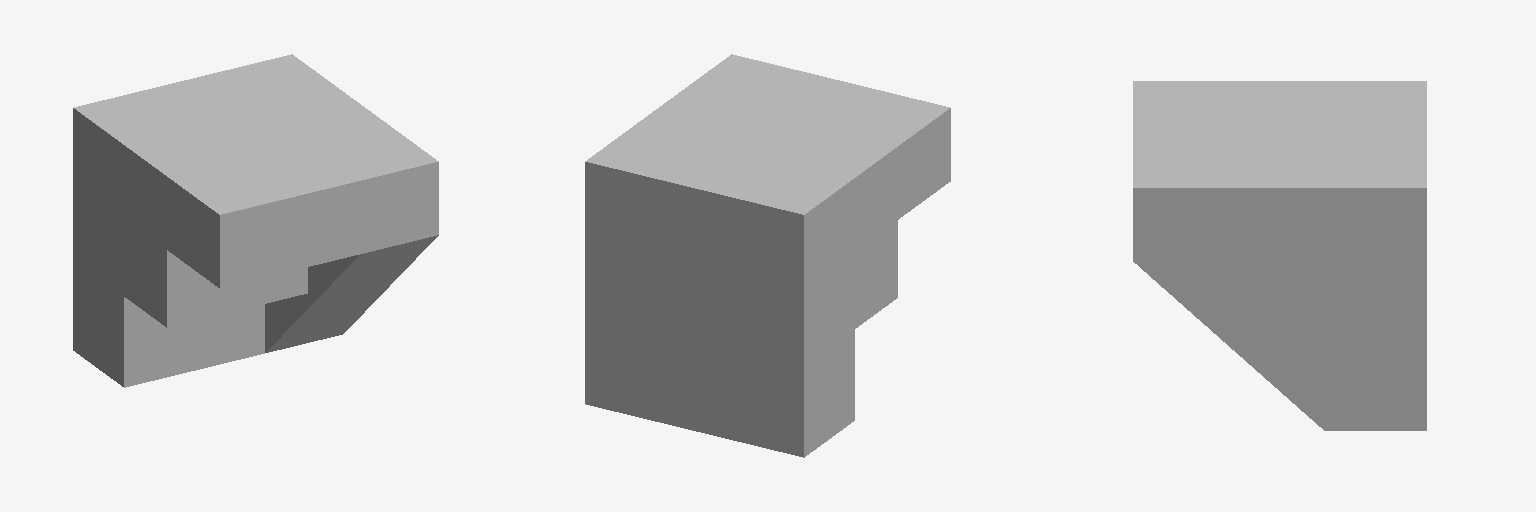
The model's file is E2-Ejem01.obj.
3 renders of one model, left to right at view 1: azimuth 30°, elevation 25°; view 2: azimuth 150°, elevation 25°; view 3: azimuth 270°, elevation 25°, orthographic.
Parts seen in each view (by area): view 1: mesh1, mesh7, mesh3, mesh11, mesh5, mesh9, mesh8; view 2: mesh0, mesh1, mesh7; view 3: mesh2, mesh1.
Boxes of the visible parts, x1,y1,x2,y2 form: mesh1: [74, 54, 438, 214]; mesh7: [73, 108, 219, 386]; mesh3: [220, 162, 438, 287]; mesh11: [124, 297, 264, 387]; mesh5: [266, 235, 438, 352]; mesh9: [167, 250, 307, 327]; mesh8: [265, 255, 358, 352]; mesh0: [585, 162, 803, 457]; mesh1: [585, 54, 949, 214]; mesh7: [804, 108, 950, 457]; mesh2: [1133, 188, 1426, 430]; mesh1: [1133, 81, 1426, 187].
Size of the model in its own units: 0.07 by 0.0741 by 0.0811.